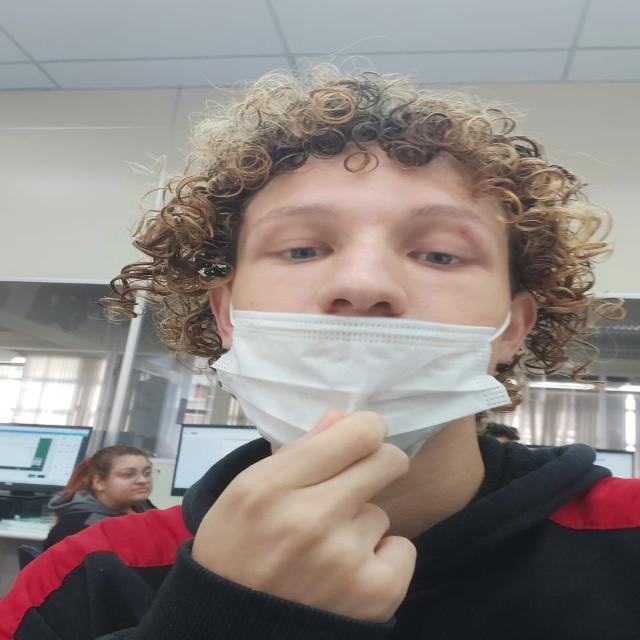hairnet: (223, 164, 522, 413)
